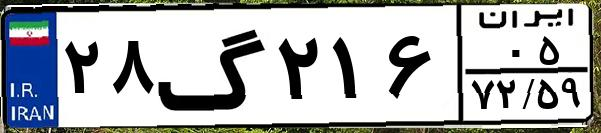0: (508, 27, 537, 80)
1: (330, 28, 385, 110)
2: (270, 28, 330, 110), (57, 26, 110, 100), (495, 70, 520, 125)
5: (537, 27, 568, 80), (535, 70, 560, 125)
6: (385, 28, 445, 110)
7: (470, 70, 495, 125)
8: (110, 28, 156, 98)
9: (560, 70, 590, 125)
گ: (156, 12, 270, 120)
